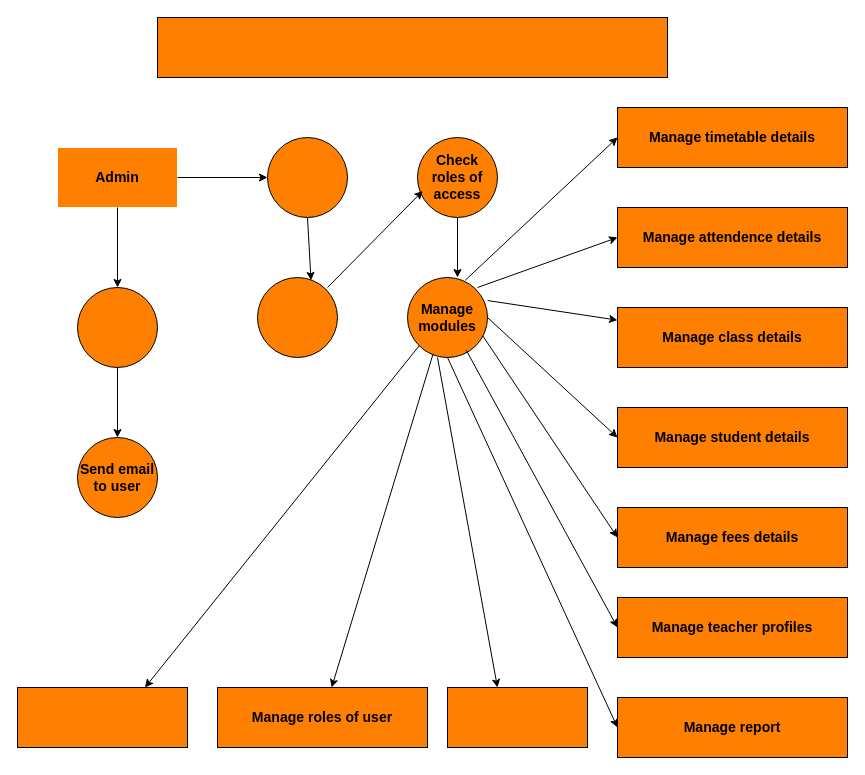
Image size: 865x775. Some labels were removed from this diagram. Here are the shapes that lost their labels. From the top down, the centre of each, then its label:
At pixel 412 47: "Student Information System".
At pixel 307 177: "Login to system".
At pixel 117 327: "Forgot password".
At pixel 297 317: "Check credentials".
At pixel 102 717: "Manage system admins".
At pixel 517 717: "manage user permissions".
